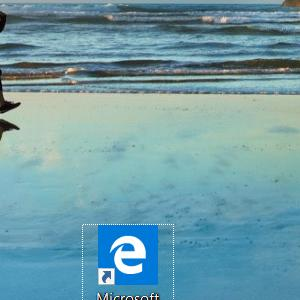edge: (97, 225, 159, 285)
